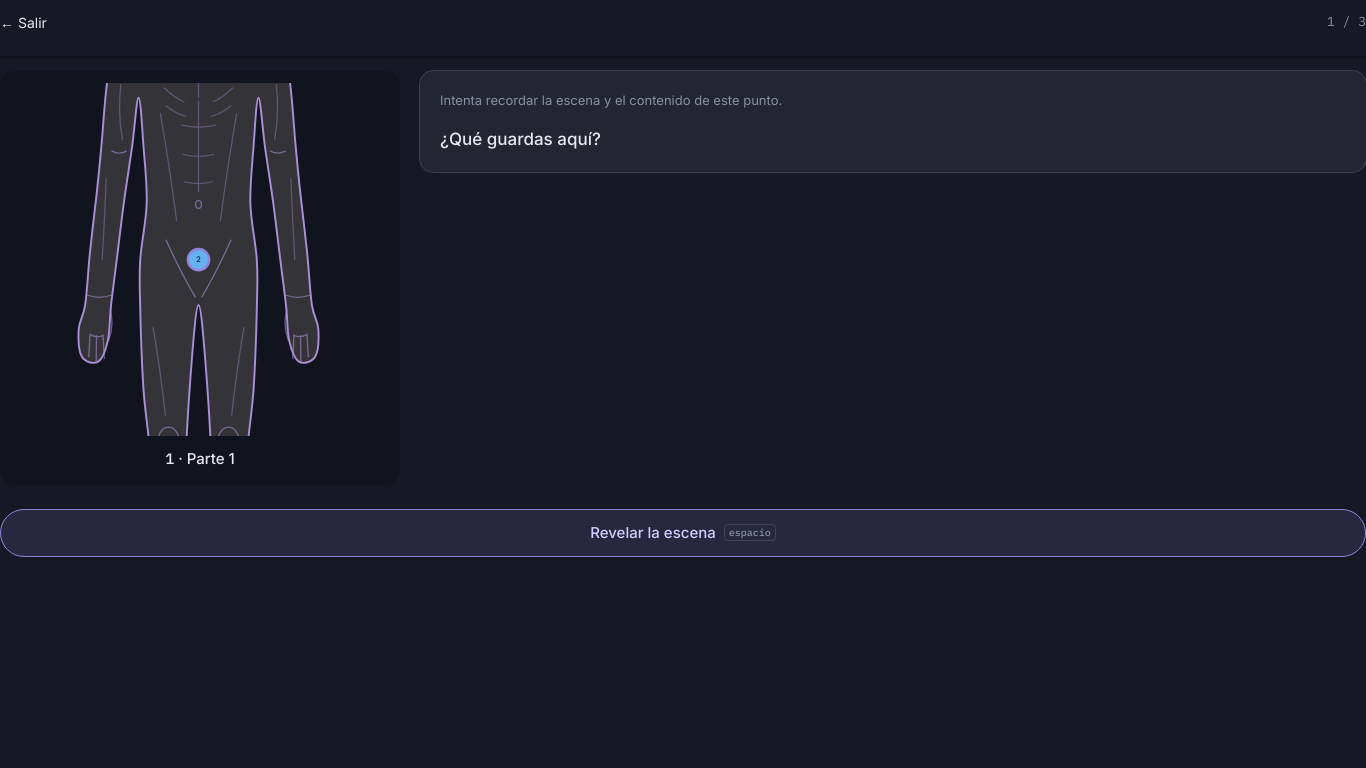
Test case: Sesión · calificar y fijar el próximo repaso › al calificar sale la hoja con la propuesta y la etapa
This screenshot has width=1366, height=768.
Check: the text "1 / 3" is shown, box [1327,12,1365,32]
Type keys " "
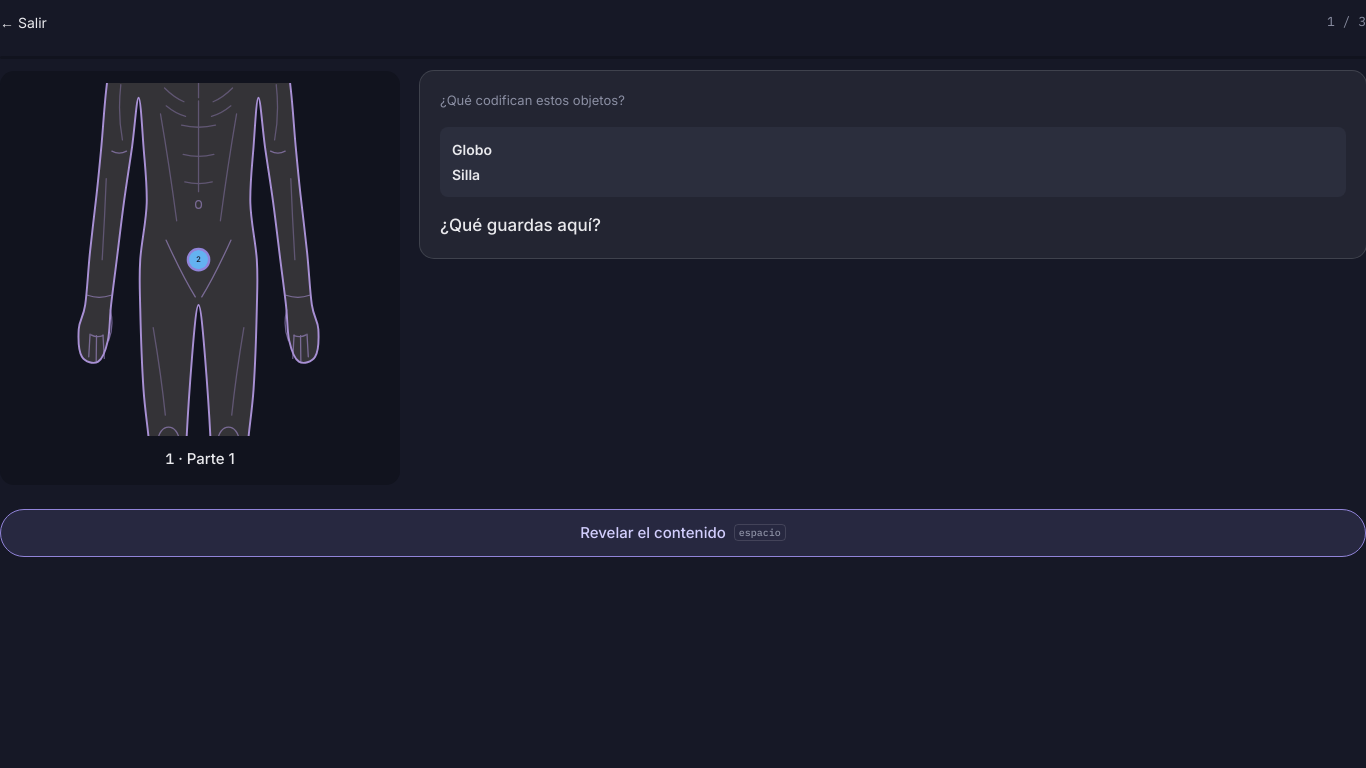
Type keys " "
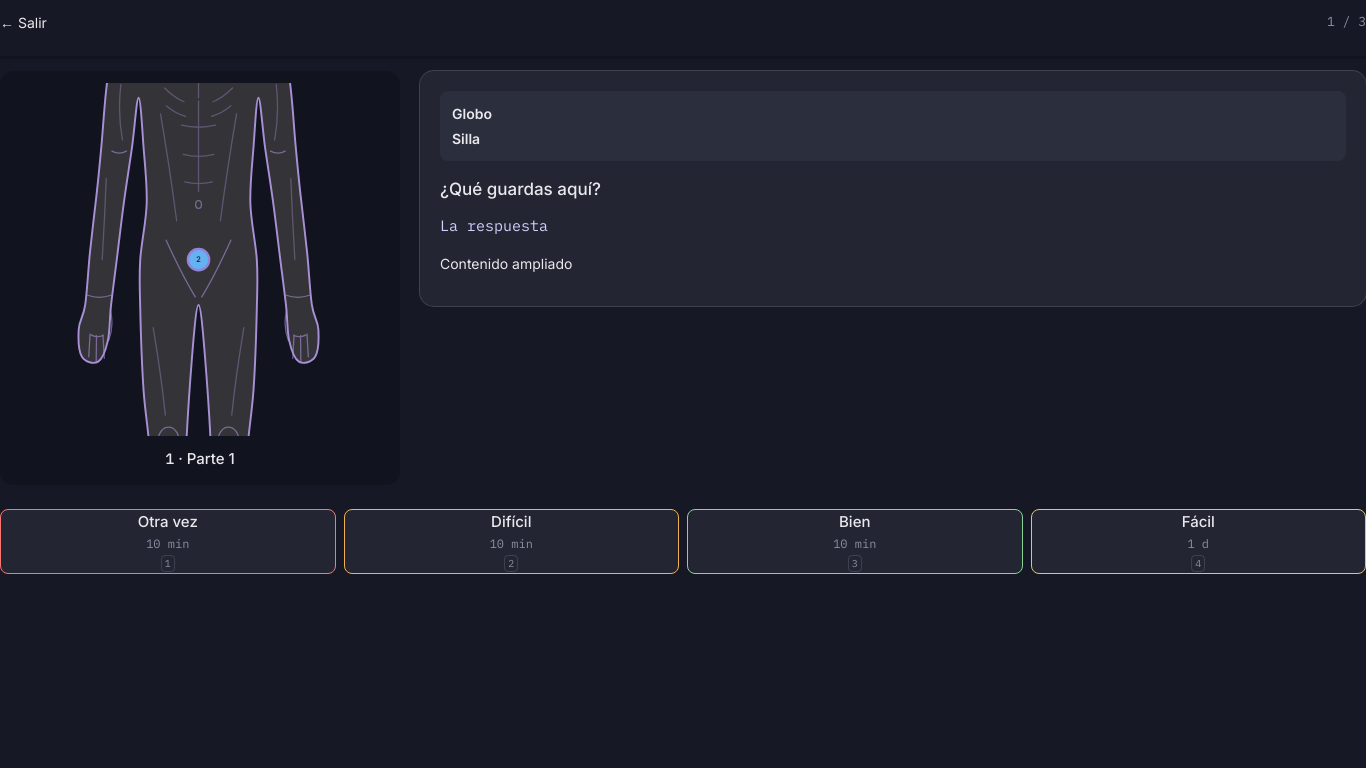
Check: the button with aria-label "Bien · 10 min" is shown
Click the button with aria-label "Bien · 10 min" at (855, 542), box [687,509,1022,574]
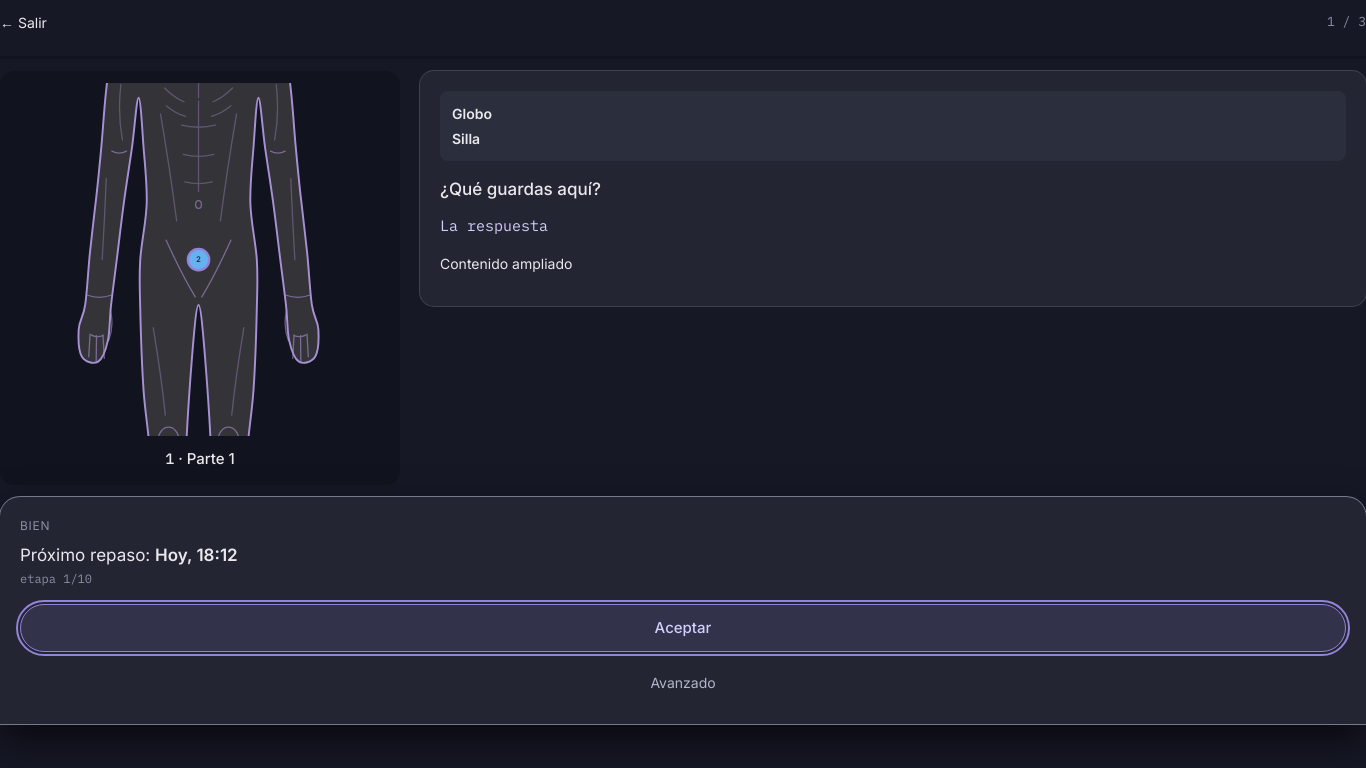
Check: the dialog "Próximo repaso" is shown, box [0,497,1365,724]
Check: the text "Próximo repaso: Hoy, 18:12" is shown, box [20,545,238,565]
Check: the text "etapa 1/10" is shown, box [20,571,92,586]
